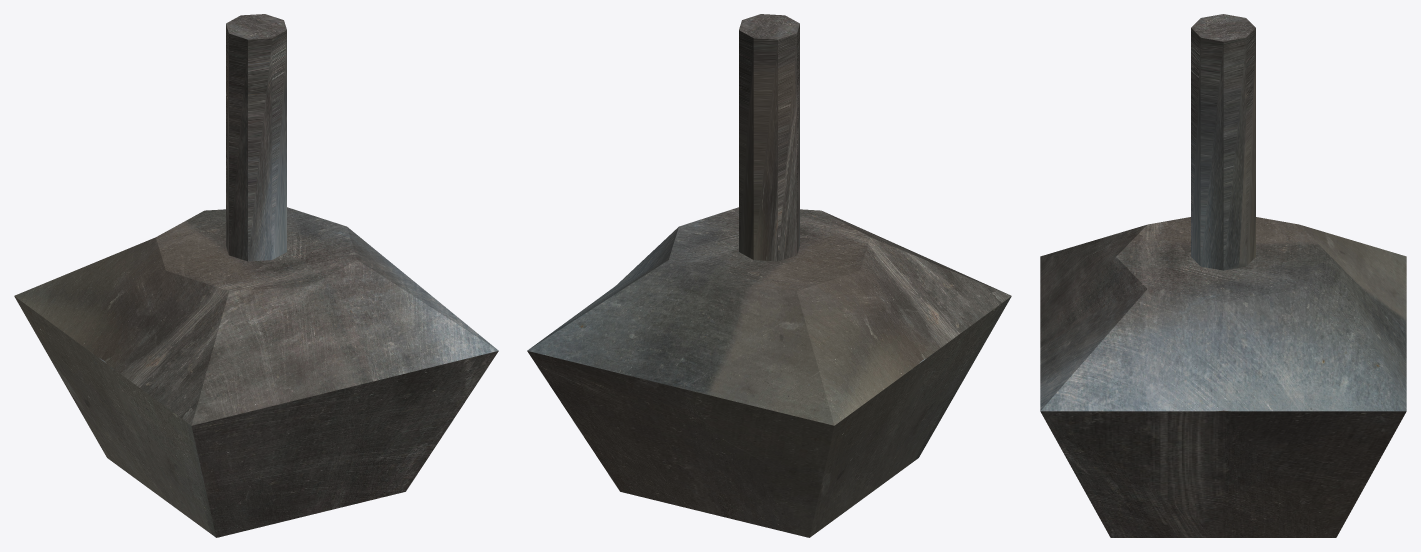
Rendered from Lampara.fbx.
3 views of the same model, side by side, from view 1: azimuth 30°, elevation 25°; view 2: azimuth 150°, elevation 25°; view 3: azimuth 270°, elevation 25° (orthographic). The views are drawn at different scales.
Parts seen in each view (by area): view 1: lamp; view 2: lamp; view 3: lamp.
Part boxes in pixels (<box>): lamp: <box>14,14,498,537</box>; lamp: <box>527,14,1011,537</box>; lamp: <box>1040,14,1406,537</box>.
Size of the model in its own units: 220 by 306 by 220.
